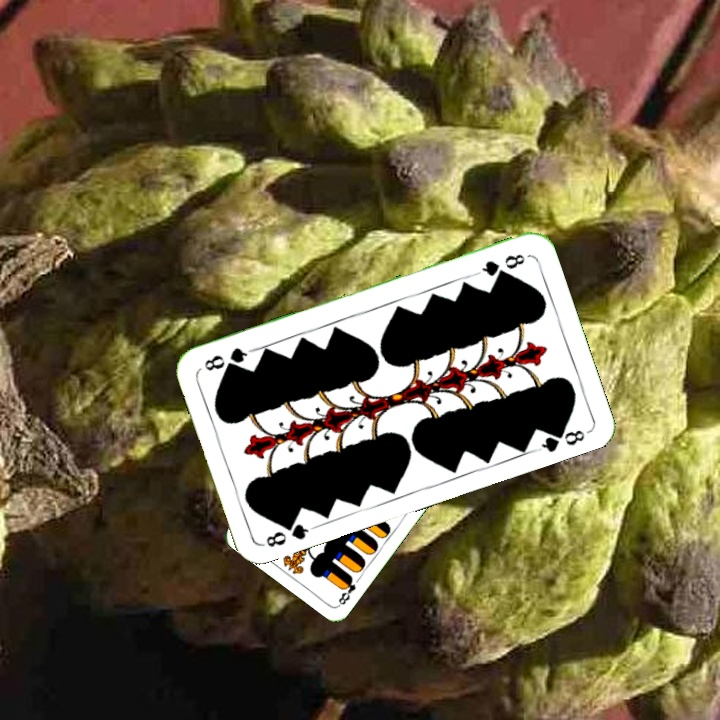E8: (334, 572, 359, 608)
G8: (260, 514, 317, 550), (473, 250, 528, 279)
